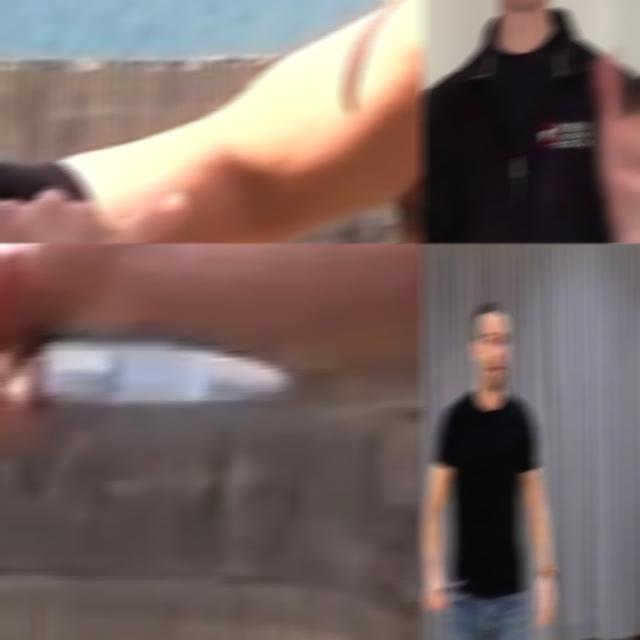Knife: (0, 336, 291, 400)
Knife_Handle: (0, 243, 297, 448), (422, 577, 464, 613)
